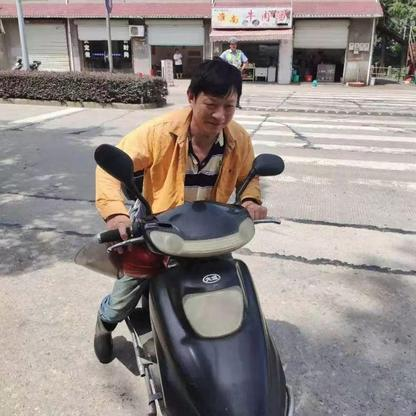target: (91, 58, 292, 412)
